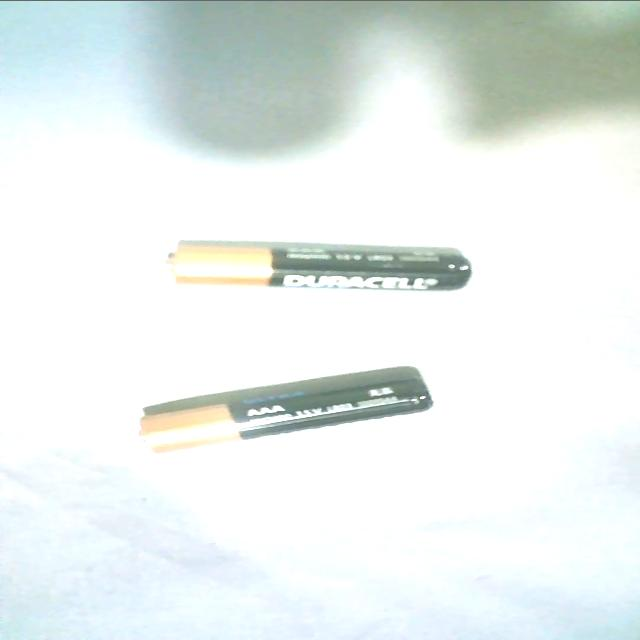AAA: (126, 371, 438, 457), (156, 238, 473, 292)
